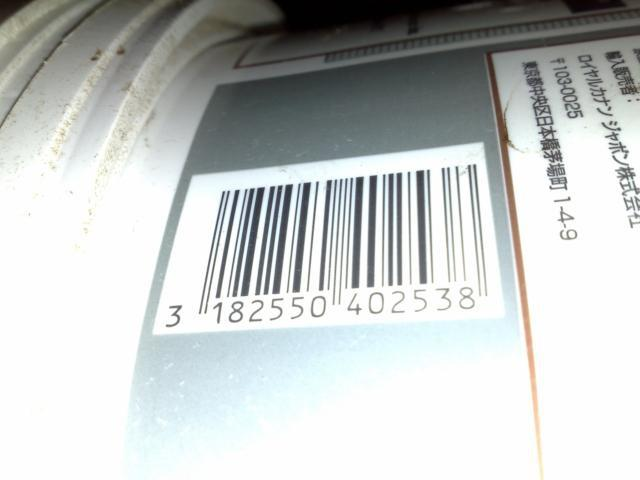Barcode: (161, 159, 497, 332)
